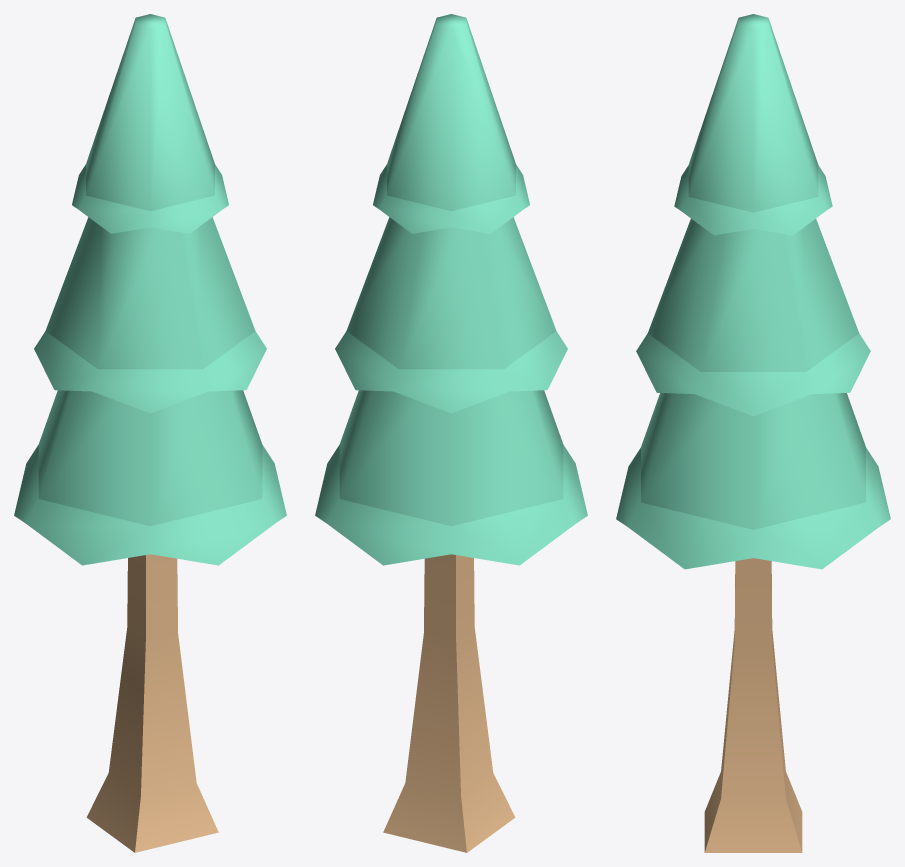
The model's file is large_tree.glb.
3 views of the same model, side by side, from view 1: azimuth 30°, elevation 25°; view 2: azimuth 150°, elevation 25°; view 3: azimuth 270°, elevation 25° (orthographic).
Visible parts, largest first — view 1: treeLarge; view 2: treeLarge; view 3: treeLarge.
Part boxes in pixels (x1,y1,x2,y2): treeLarge: (14,14,286,852); treeLarge: (315,14,587,852); treeLarge: (616,14,890,852).
Bounding box in the file's own units: 0.5529 × 1.71 × 0.5262.
